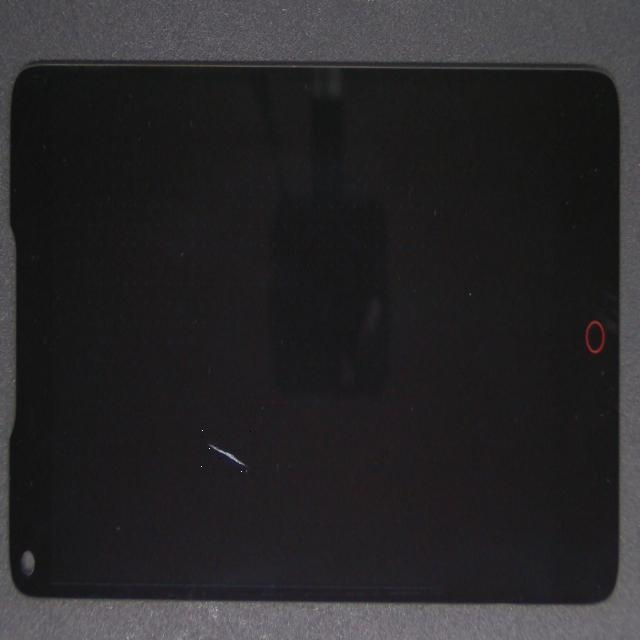scratch: (73, 231, 322, 640)
